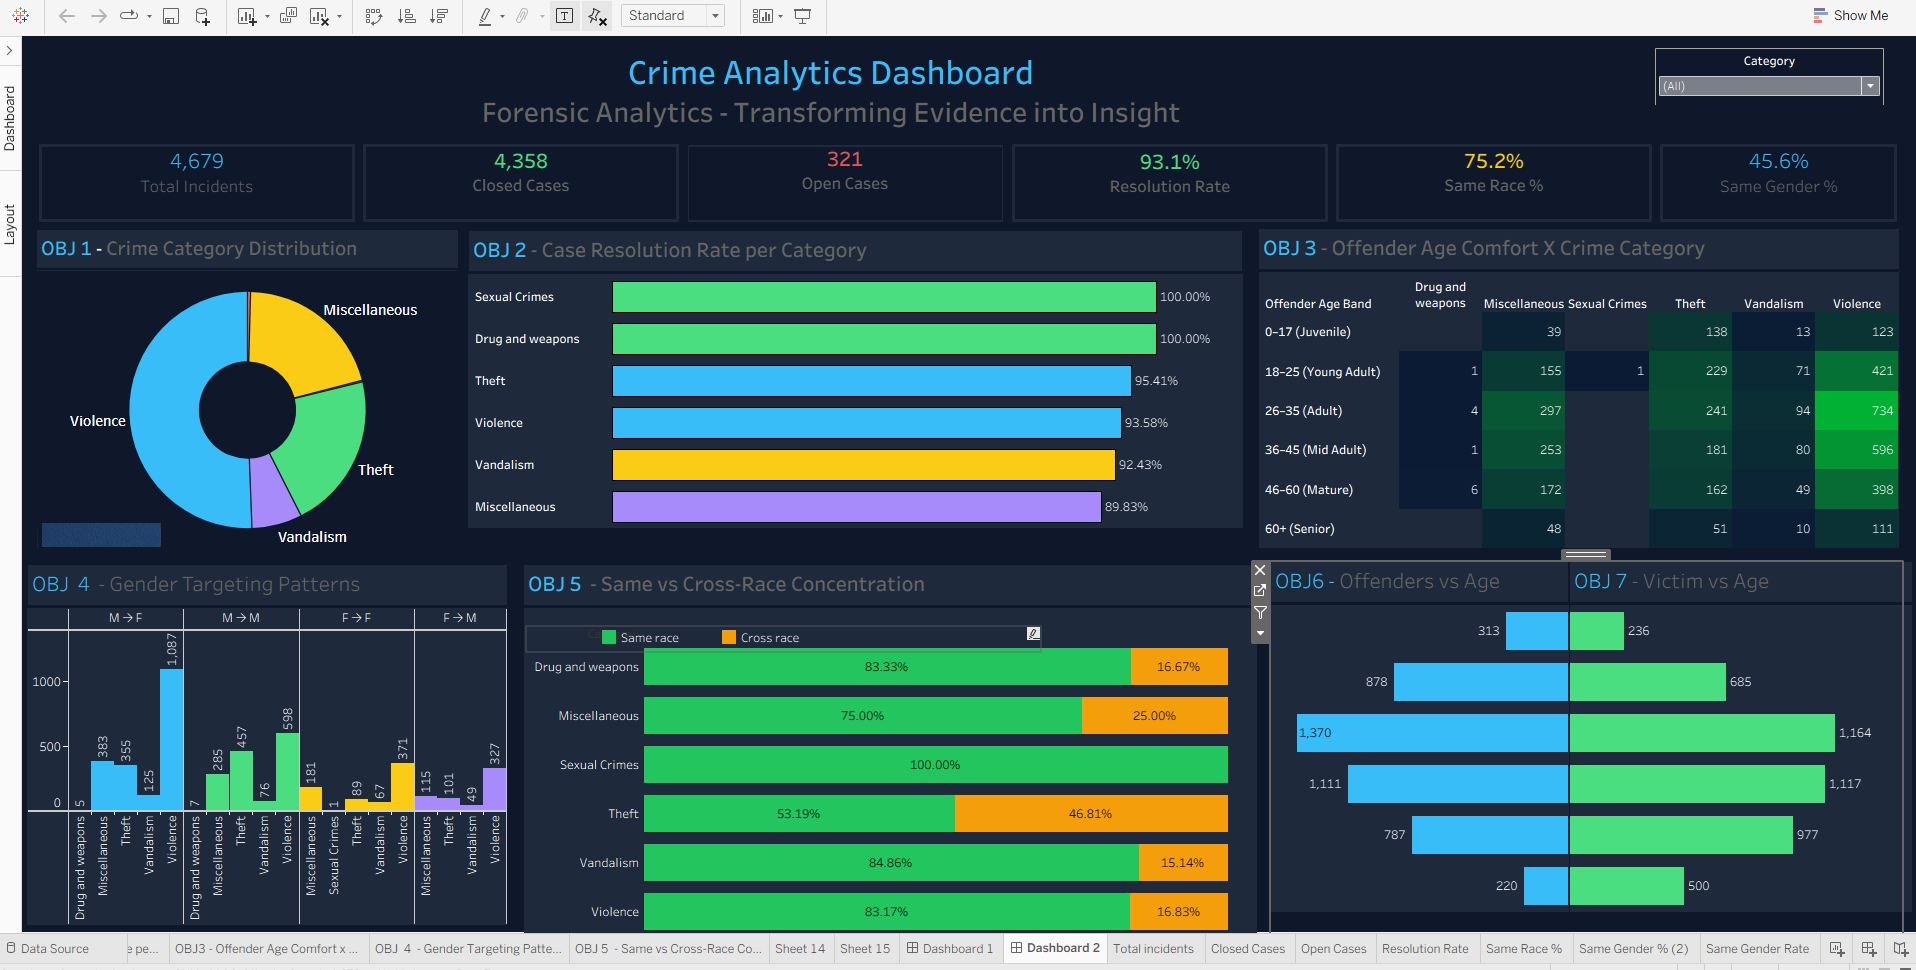

This screenshot's page, from the dashboard's own definition file:
{"tool":"tableau","page":{"name":"Dashboard 2","canvas":[1000,1000],"units":"permille","ordinal":1},"visuals":[{"type":"title","box":[7.4,0,991,125.7]},{"type":"filter","title":"OBJ2 - Case Resolution Rate per Category","param":"[federated.1ct35691nzrczl1dvcpxo1ohbglk].[none:Category:nk]","box":[855.4,31.7,120.8,64.6]},{"type":"worksheet","title":"Total incidents","mark":"Automatic","box":[25.9,128.1,144.8,78.7]},{"type":"worksheet","title":"Closed Cases","mark":"Automatic","box":[186.5,128.1,144.8,78.7]},{"type":"worksheet","title":"Open Cases","mark":"Automatic","box":[353.7,128.1,144.8,78.7]},{"type":"worksheet","title":"Resolution Rate","mark":"Automatic","box":[517.2,128.1,144.8,78.7]},{"type":"worksheet","title":"Same Race %","mark":"Automatic","box":[678.9,128.1,144.8,78.7]},{"type":"worksheet","title":"Same Gender Rate","mark":"Automatic","box":[844.3,128.1,144.8,78.7]},{"type":"text","box":[207.6,139.8,100.2,91.7]},{"type":"text","box":[354.2,146.9,141.2,77.6]},{"type":"text","box":[29,150.4,140,75.2]},{"type":"text","box":[847.3,151.6,140.6,69.3]},{"type":"text","box":[681.4,152.8,140,67]},{"type":"text","box":[526.2,153.9,120.1,61.1]},{"type":"worksheet","title":"OBJ3 - Offender Age Comfort x Crime Category","mark":"Square","rows":["Offender_Age_Band"],"cols":["Category"],"box":[653.1,215.7,337.9,356.4]},{"type":"worksheet","title":"OBJ1- Crime Category Disribution","box":[7.9,216.8,222.5,356.4]},{"type":"worksheet","title":"OBJ2 - Case Resolution Rate per Category","mark":"Bar","rows":["Category"],"cols":["Calculation_0289225089290240"],"box":[235.7,217.4,416.8,394.8]},{"type":"text","box":[93.8,384.2,54,44.6]},{"type":"image","param":"C:/Users/ayush/OneDrive/Desktop/WhatsApp Image 2026-04-09 at 8.53.52 PM.png","box":[8.4,539.4,67,35.2]},{"type":"worksheet","title":"OBJ  4  - Gender Targeting Patterns","mark":"Bar","rows":["Category"],"cols":["Calculation_2010512167583748","Category"],"box":[2.6,589.9,253.2,401.9]},{"type":"worksheet","title":"OBJ 5  - Same vs Cross-Race Concentration","mark":"Automatic","rows":["Category"],"cols":["Category"],"box":[264.8,589.9,387.2,413.6]},{"type":"legend","title":"OBJ 5  - Same vs Cross-Race Concentration","param":"[federated.1ct35691nzrczl1dvcpxo1ohbglk].[none:Calculation_1208968546885635:nk]","box":[266.8,659.2,271,27]}]}

Visuals, with their boxes on the dashboard's canvas, which has no fixed pixel size, in thousandths of its width and height (x1, y1, x2, y2). These are canvas units, not pixel positions in the 1916x970 screenshot, which may show the page scaled, cropped or inside an application window:
title: select_region(7, 0, 998, 126)
"OBJ2 - Case Resolution Rate per Category" filter: select_region(855, 32, 976, 96)
"Total incidents" worksheet: select_region(26, 128, 171, 207)
"Closed Cases" worksheet: select_region(186, 128, 331, 207)
"Open Cases" worksheet: select_region(354, 128, 498, 207)
"Resolution Rate" worksheet: select_region(517, 128, 662, 207)
"Same Race %" worksheet: select_region(679, 128, 824, 207)
"Same Gender Rate" worksheet: select_region(844, 128, 989, 207)
text: select_region(208, 140, 308, 232)
text: select_region(354, 147, 495, 224)
text: select_region(29, 150, 169, 226)
text: select_region(847, 152, 988, 221)
text: select_region(681, 153, 821, 220)
text: select_region(526, 154, 646, 215)
"OBJ3 - Offender Age Comfort x Crime Category" worksheet (Square marks): select_region(653, 216, 991, 572)
"OBJ1- Crime Category Disribution" worksheet: select_region(8, 217, 230, 573)
"OBJ2 - Case Resolution Rate per Category" worksheet (Bar marks): select_region(236, 217, 652, 612)
text: select_region(94, 384, 148, 429)
image: select_region(8, 539, 75, 575)
"OBJ  4  - Gender Targeting Patterns" worksheet (Bar marks): select_region(3, 590, 256, 992)
"OBJ 5  - Same vs Cross-Race Concentration" worksheet: select_region(265, 590, 652, 1004)
"OBJ 5  - Same vs Cross-Race Concentration" legend: select_region(267, 659, 538, 686)
